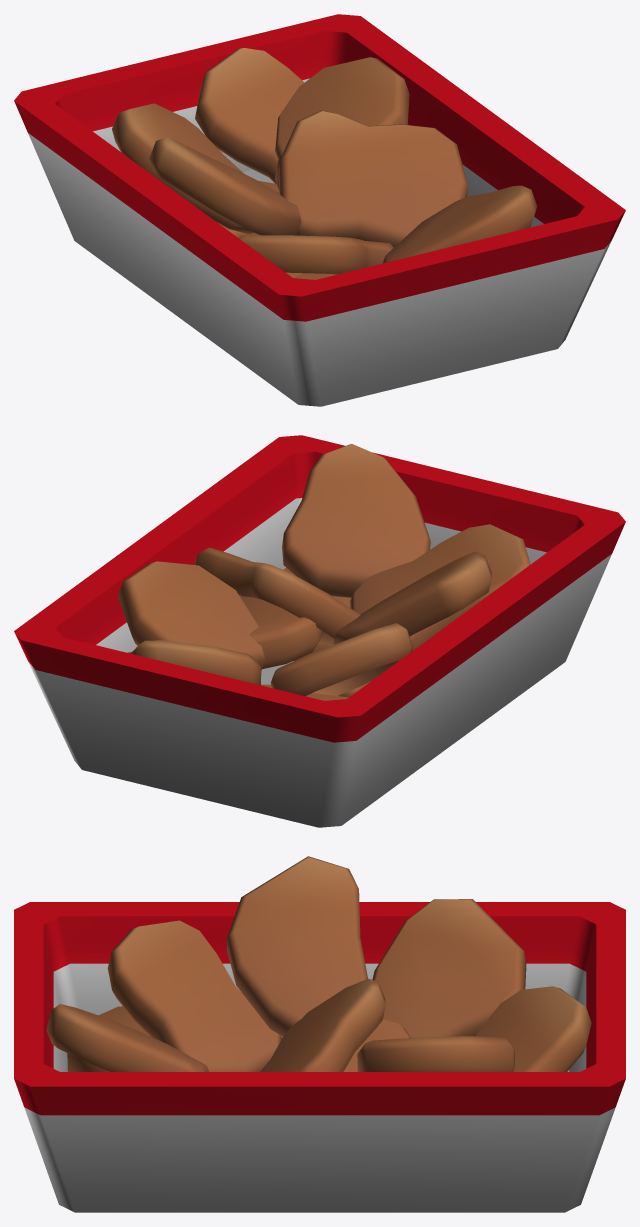
File: Product Nuggets.fbx
The picture shows the model from 3 angles, top to bottom: view 1: azimuth 30°, elevation 25°; view 2: azimuth 150°, elevation 25°; view 3: azimuth 270°, elevation 25°; orthographic projection. The views are drawn at different scales.
Visible parts, largest first — view 1: Product_Nuggets; view 2: Product_Nuggets; view 3: Product_Nuggets.
Part boxes in pixels (x1,y1,x2,y2): Product_Nuggets: (14,14,625,406); Product_Nuggets: (14,435,625,827); Product_Nuggets: (14,856,625,1212).
Size of the model in its own units: 115 by 59.14 by 161.
